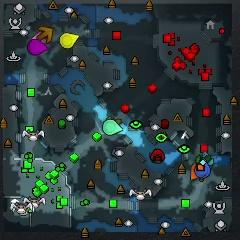p1: (194, 161, 212, 177)
p2: (103, 120, 122, 134)
p3: (28, 39, 49, 55)
p4: (59, 34, 80, 47)
p5: (189, 161, 199, 181)
x1: (31, 34, 42, 39)
x2: (106, 115, 122, 125)
x3: (200, 151, 215, 165)
x4: (196, 154, 213, 167)
x5: (38, 27, 53, 42)
